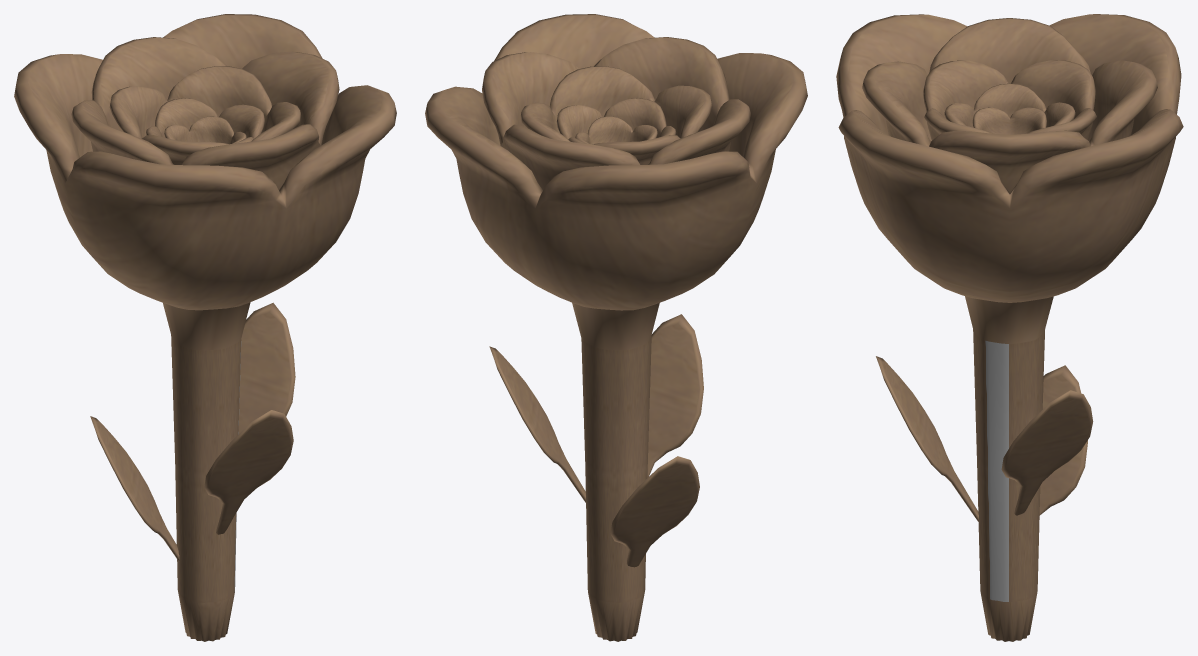
Rendered from flower.fbx.
The picture shows the model from 3 angles, left to right: view 1: azimuth 30°, elevation 25°; view 2: azimuth 150°, elevation 25°; view 3: azimuth 270°, elevation 25°; orthographic projection. The views are drawn at different scales.
Visible parts, largest first — view 1: pSphere11; view 2: pSphere11; view 3: pSphere11.
Part boxes in pixels (left/top/right/bottom): pSphere11: left=14, top=14, right=396, bottom=641; pSphere11: left=425, top=14, right=807, bottom=641; pSphere11: left=836, top=14, right=1183, bottom=641.
Size of the model in its own units: 0.2414 by 0.4265 by 0.2414.
